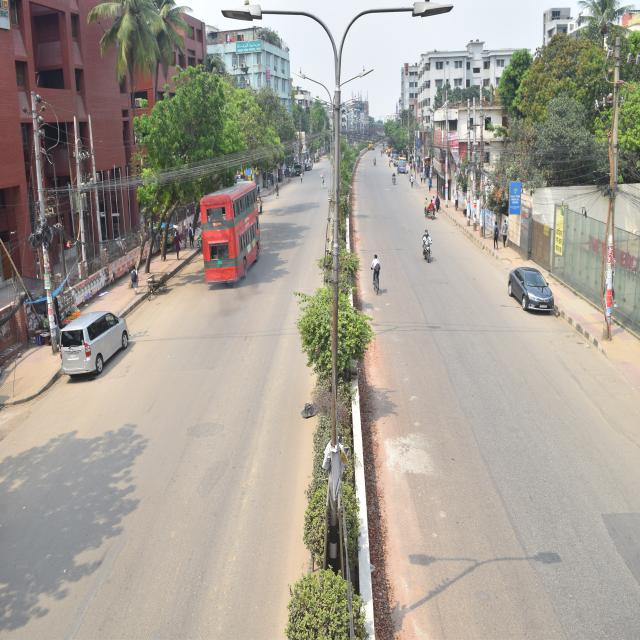bus: (196, 171, 274, 296)
car: (507, 249, 560, 326)
microbus: (45, 297, 142, 389)
motorbike: (416, 230, 437, 270)
